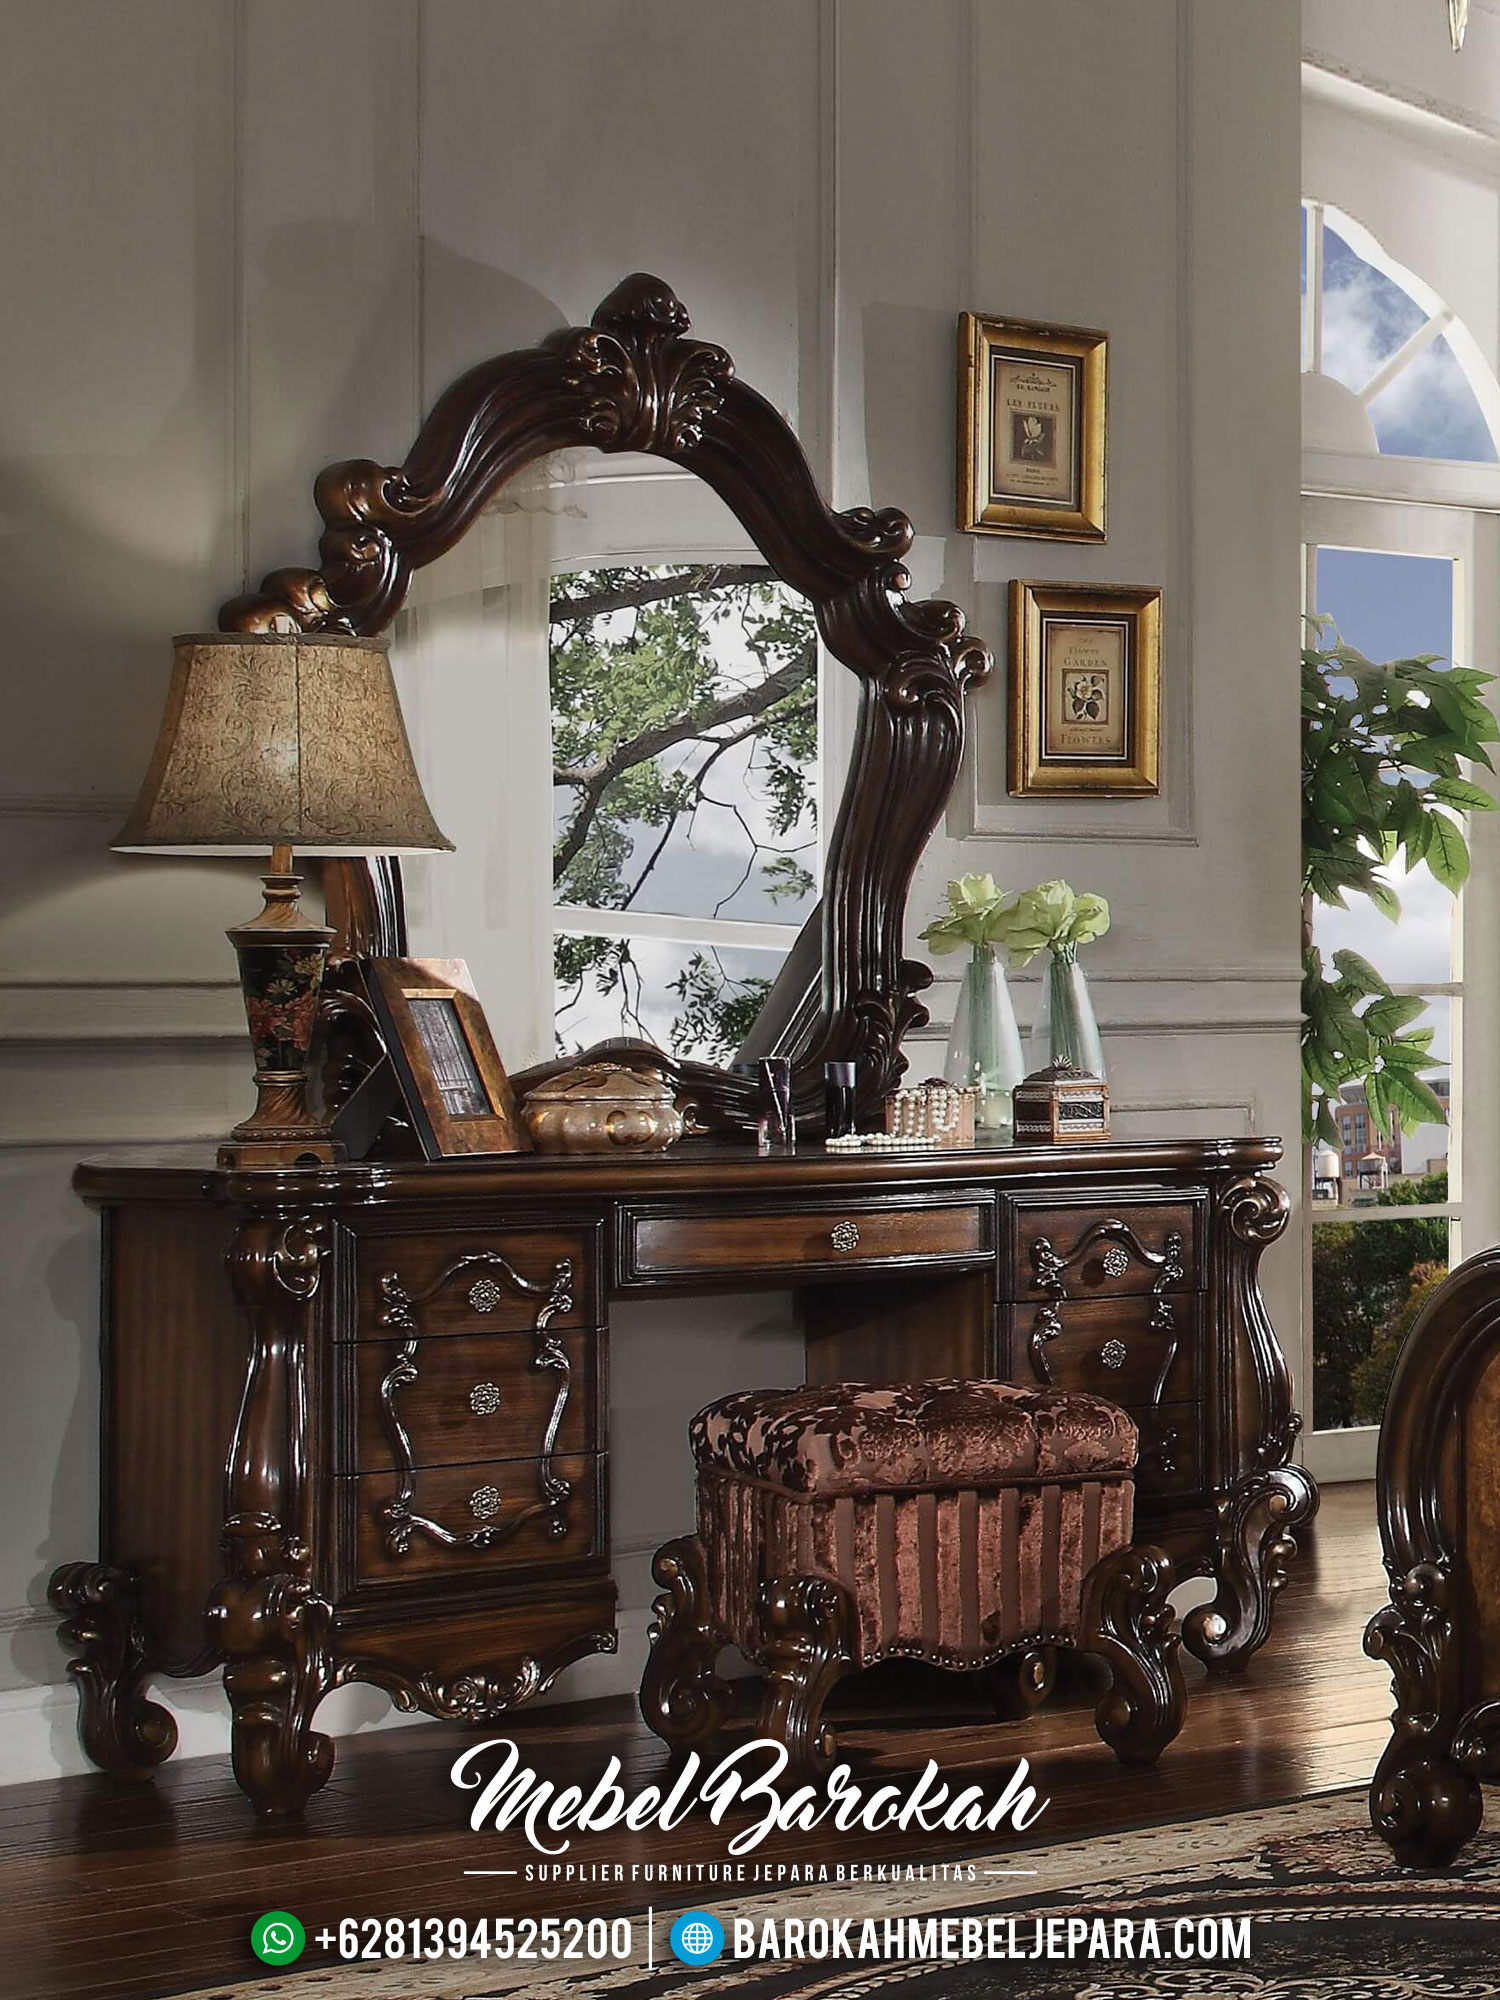Carving Table: (65, 1076, 1283, 1706)
